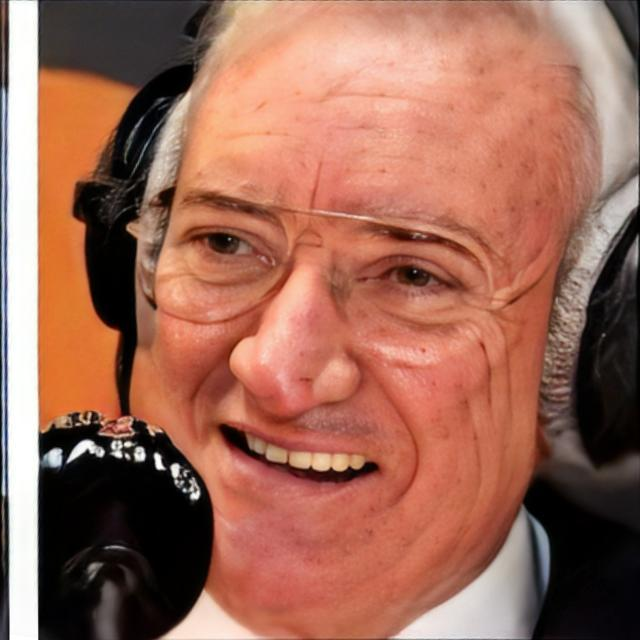happy: (137, 31, 542, 608)
